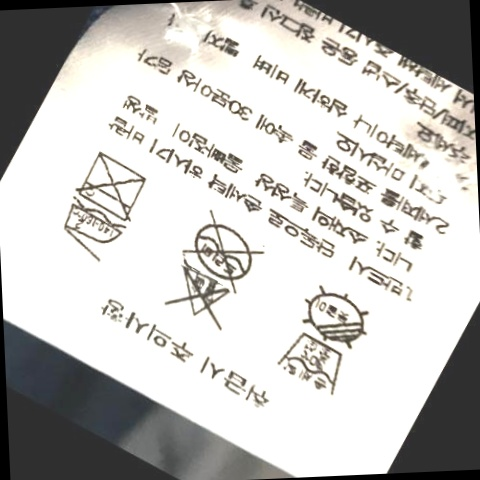DN_dry_clean: (191, 215, 264, 281)
DN_wash: (78, 155, 155, 212)
hand_wash: (277, 337, 350, 399)
iron_medium: (58, 205, 127, 258)
line_dry_in_shade: (301, 282, 377, 349)
non_chlorine_bleach: (172, 269, 241, 326)
